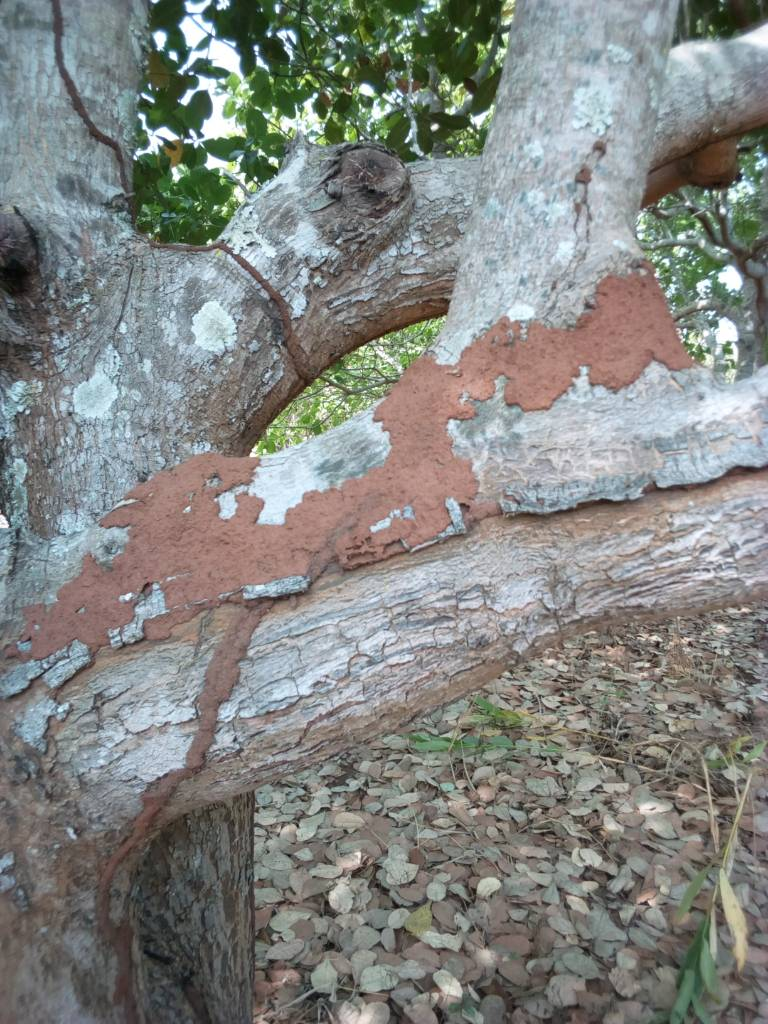Termites: (33, 463, 471, 614), (399, 275, 697, 438), (100, 611, 260, 878), (204, 235, 325, 402)
